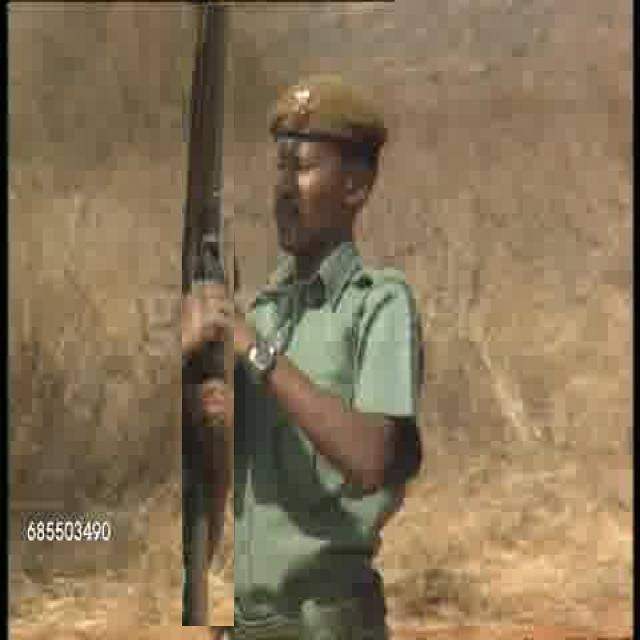poacher: (234, 68, 460, 496)
weapon: (182, 5, 235, 626)
